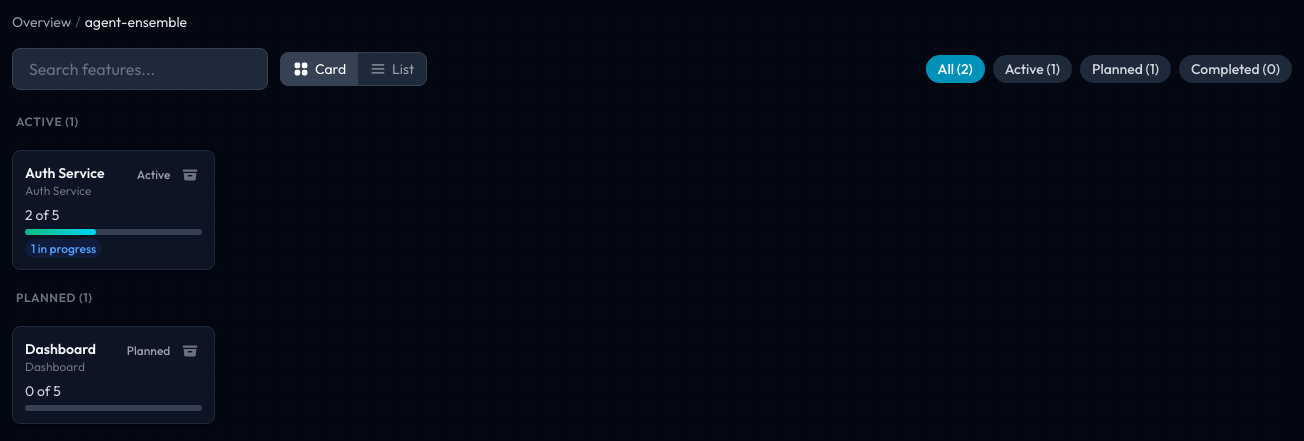
Scenario: ProjectFeatureView › view mode toggle › defaults to card mode showing FeatureGrid, toggles to list mode showing FeatureListView
This screenshot has width=1304, height=441.
Expected: the element with test id "feature-grid" is shown, [12,114,215,424]
// Click list mode toggle
What coordinates should you click on to do the following:
click the button "List"
I would click on:
 (392, 69)
Its box is [358,53,426,85].
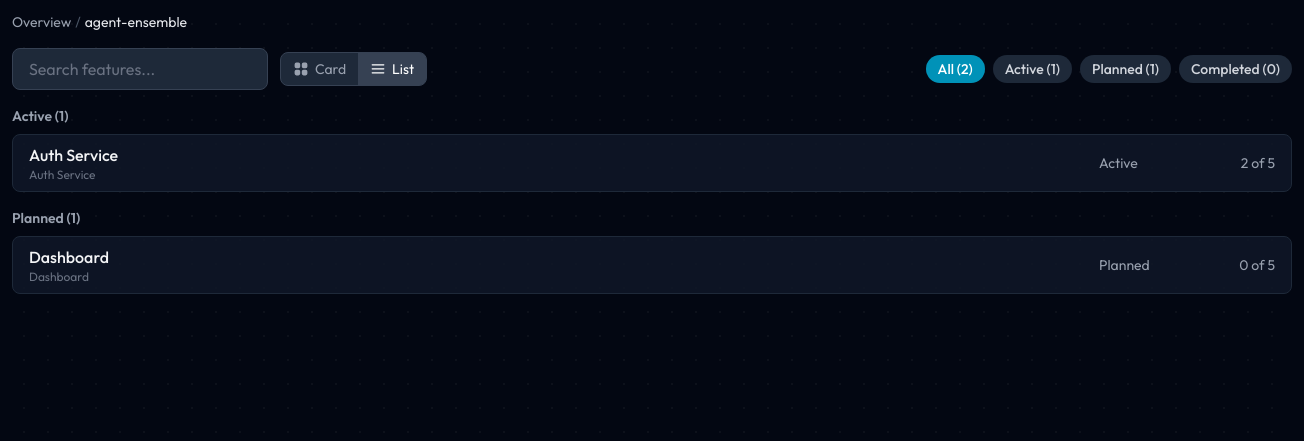
Expected: the element with test id "feature-list-view" is shown, [12,106,1292,294]
Expected: the element with test id "feature-grid" is gone
